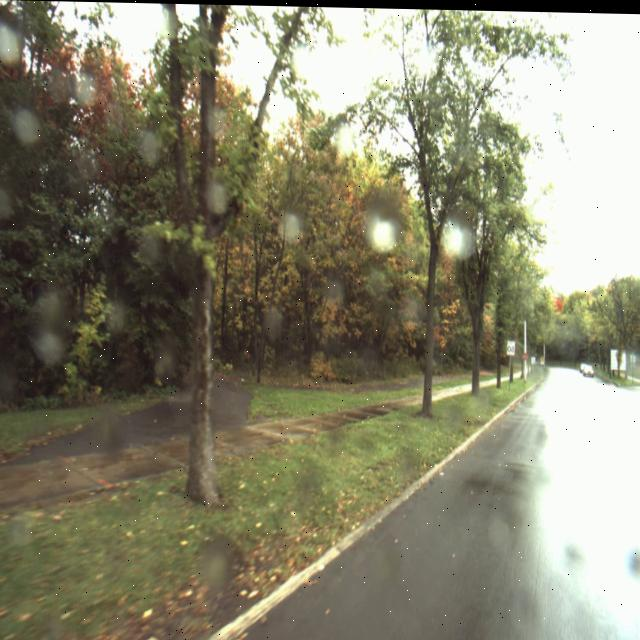car: (580, 360, 594, 375)
